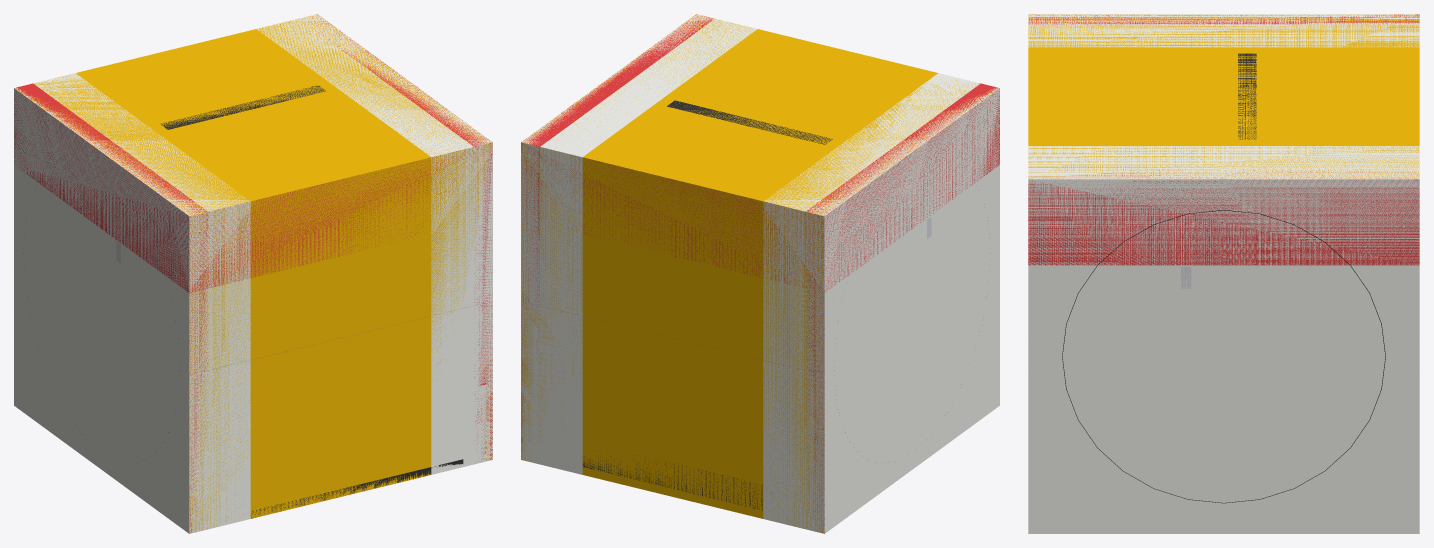
3 renders of one model, left to right at view 1: azimuth 30°, elevation 25°; view 2: azimuth 150°, elevation 25°; view 3: azimuth 270°, elevation 25°, orthographic. The views are drawn at different scales.
Visible parts, largest first — view 1: sc_lampL, sc_head, sc_tail, sc_trim; view 2: sc_head, sc_lampL, sc_tail, sc_trim; view 3: sc_head, sc_lampL, sc_tail, sc_trim, sc_tyre_RL.
Boxes of the visible parts, bbox=[...] form: sc_lampL: bbox=[16, 14, 492, 532]; sc_head: bbox=[14, 14, 492, 533]; sc_tail: bbox=[14, 14, 492, 533]; sc_trim: bbox=[161, 85, 463, 518]; sc_head: bbox=[521, 14, 999, 533]; sc_lampL: bbox=[521, 14, 995, 533]; sc_tail: bbox=[521, 14, 999, 531]; sc_trim: bbox=[583, 100, 832, 510]; sc_head: bbox=[1028, 14, 1419, 533]; sc_lampL: bbox=[1028, 14, 1419, 179]; sc_tail: bbox=[1028, 14, 1419, 265]; sc_trim: bbox=[1238, 53, 1256, 139]; sc_tyre_RL: bbox=[1081, 210, 1385, 503].
Size of the model in its own units: 65536 by 65534 by 65537.
